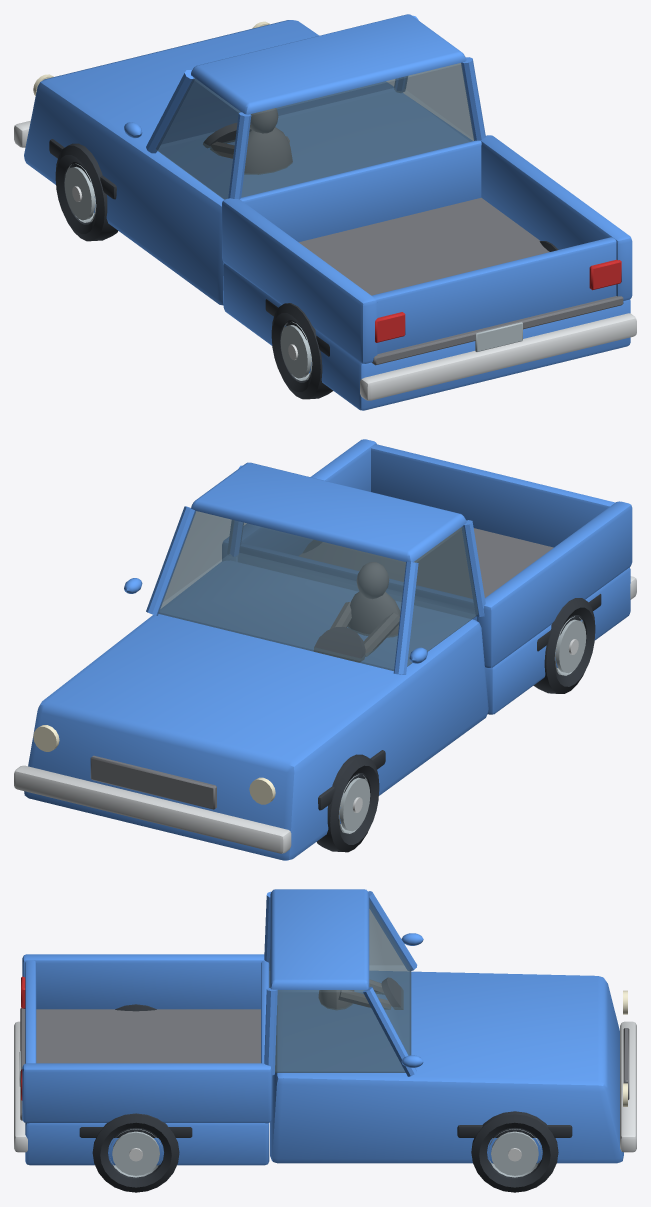
The model's file is TrafficPickup.fbx.
3 views of the same model, one above another, from view 1: azimuth 30°, elevation 25°; view 2: azimuth 150°, elevation 25°; view 3: azimuth 270°, elevation 25° (orthographic). The views are drawn at different scales.
Parts seen in each view (by area): view 1: Body__paint, Body__glass, Body__engine, Body__chrome, WheelFL__rubber, Body__driver, WheelRL__rubber, Body__tail, WheelRL__metal, WheelFL__metal, Body__rubber, Body__metal; view 2: Body__paint, Body__glass, Body__engine, Body__chrome, Body__driver, WheelFL__rubber, WheelRL__rubber, Body__interior, WheelRL__metal, WheelFL__metal, Body__lamp, Body__rubber; view 3: Body__paint, Body__engine, Body__glass, WheelFR__rubber, WheelRR__rubber, Body__chrome, WheelFR__metal, WheelRR__metal, Body__rubber, Body__driver, Body__interior.
Part boxes in pixels (bbox=[...]): Body__paint: bbox=[24, 14, 632, 410]; Body__glass: bbox=[156, 63, 474, 199]; Body__engine: bbox=[299, 197, 623, 365]; Body__chrome: bbox=[14, 120, 636, 400]; WheelFL__rubber: bbox=[55, 143, 117, 241]; Body__driver: bbox=[210, 108, 292, 174]; WheelRL__rubber: bbox=[271, 303, 332, 399]; Body__tail: bbox=[375, 259, 621, 342]; WheelRL__metal: bbox=[280, 321, 312, 380]; WheelFL__metal: bbox=[64, 163, 96, 222]; Body__rubber: bbox=[49, 139, 329, 356]; Body__metal: bbox=[475, 322, 522, 351]; Body__paint: bbox=[24, 439, 632, 860]; Body__glass: bbox=[158, 511, 478, 671]; Body__engine: bbox=[90, 528, 553, 809]; Body__chrome: bbox=[14, 576, 636, 853]; Body__driver: bbox=[330, 562, 400, 656]; WheelFL__rubber: bbox=[317, 754, 379, 852]; WheelRL__rubber: bbox=[533, 598, 595, 693]; Body__interior: bbox=[314, 627, 365, 662]; WheelRL__metal: bbox=[554, 616, 586, 675]; WheelFL__metal: bbox=[338, 774, 370, 833]; Body__lamp: bbox=[33, 725, 275, 804]; Body__rubber: bbox=[318, 594, 601, 810]; Body__paint: bbox=[22, 889, 623, 1165]; Body__engine: bbox=[20, 1008, 629, 1120]; Body__glass: bbox=[269, 900, 411, 1072]; WheelFR__rubber: bbox=[471, 1111, 558, 1192]; WheelRR__rubber: bbox=[92, 1113, 179, 1192]; Body__chrome: bbox=[14, 1021, 636, 1152]; WheelFR__metal: bbox=[488, 1129, 541, 1177]; WheelRR__metal: bbox=[109, 1129, 162, 1177]; Body__rubber: bbox=[79, 1125, 572, 1137]; Body__driver: bbox=[318, 979, 391, 1009]; Body__interior: bbox=[381, 977, 403, 1009].
Bounding box in the file's own units: 2.16 × 1.58 × 4.44.
